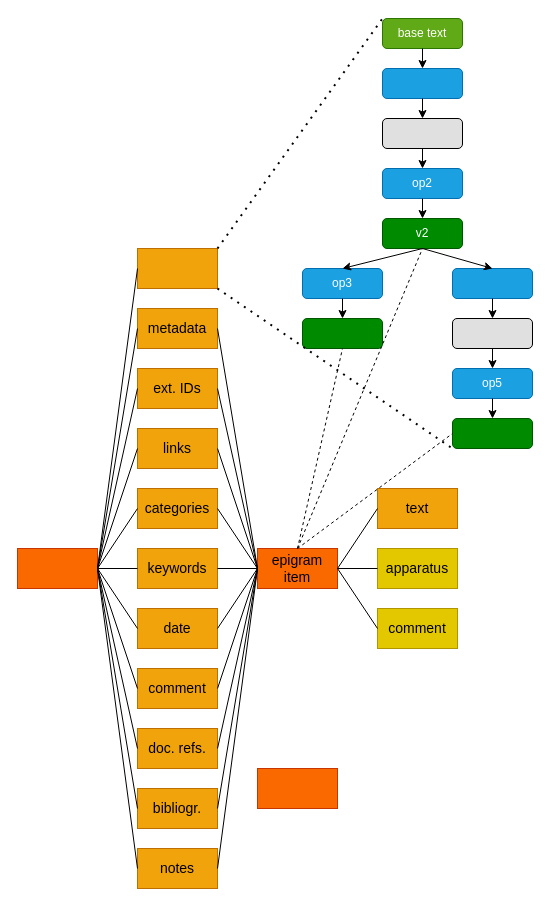
Image size: 550x906. Some labels were removed from this diagram. The centre of each missing label's shape, as x and y in pixels:
collection item: the point at 297,788
op 1: the point at 422,83
op4: the point at 492,283
snapshot: the point at 177,268
snapshot item: the point at 57,568
v1: the point at 422,133
v3: the point at 342,333
v4: the point at 492,333
v5: the point at 492,433
